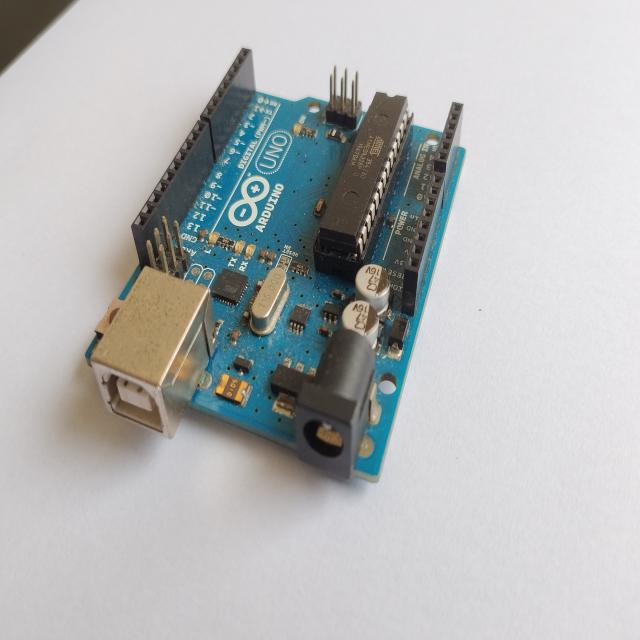arduino: (75, 34, 470, 499)
